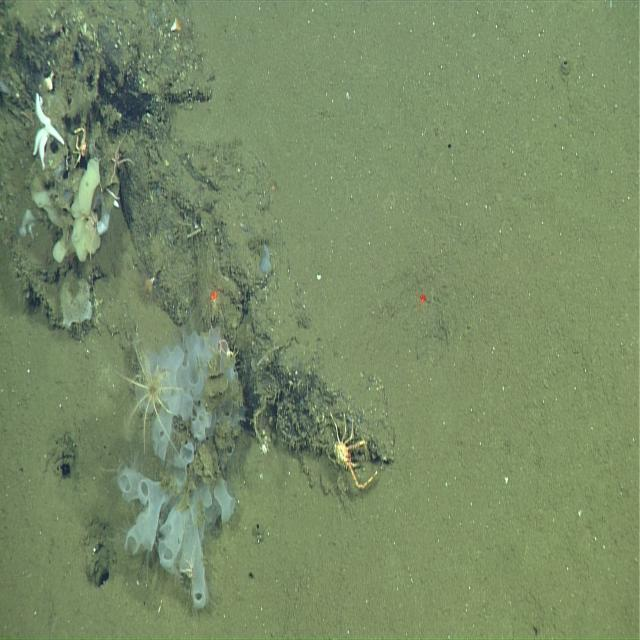Brittle Star: (104, 132, 136, 203)
Not Brittle Star: (116, 321, 236, 599), (114, 337, 177, 458), (326, 406, 382, 498), (30, 91, 66, 171), (72, 152, 102, 219), (71, 205, 102, 262), (74, 122, 90, 162), (258, 438, 272, 458)
